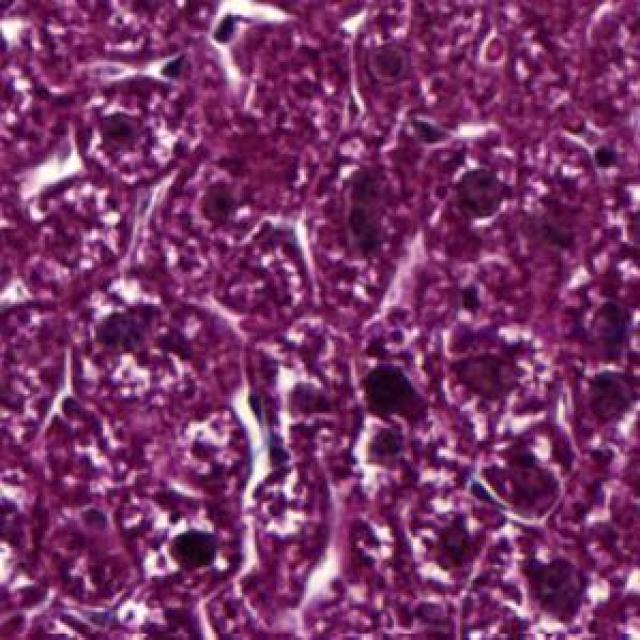inflammation: (73, 280, 165, 374), (441, 157, 524, 236), (347, 411, 417, 490), (152, 516, 227, 586)
